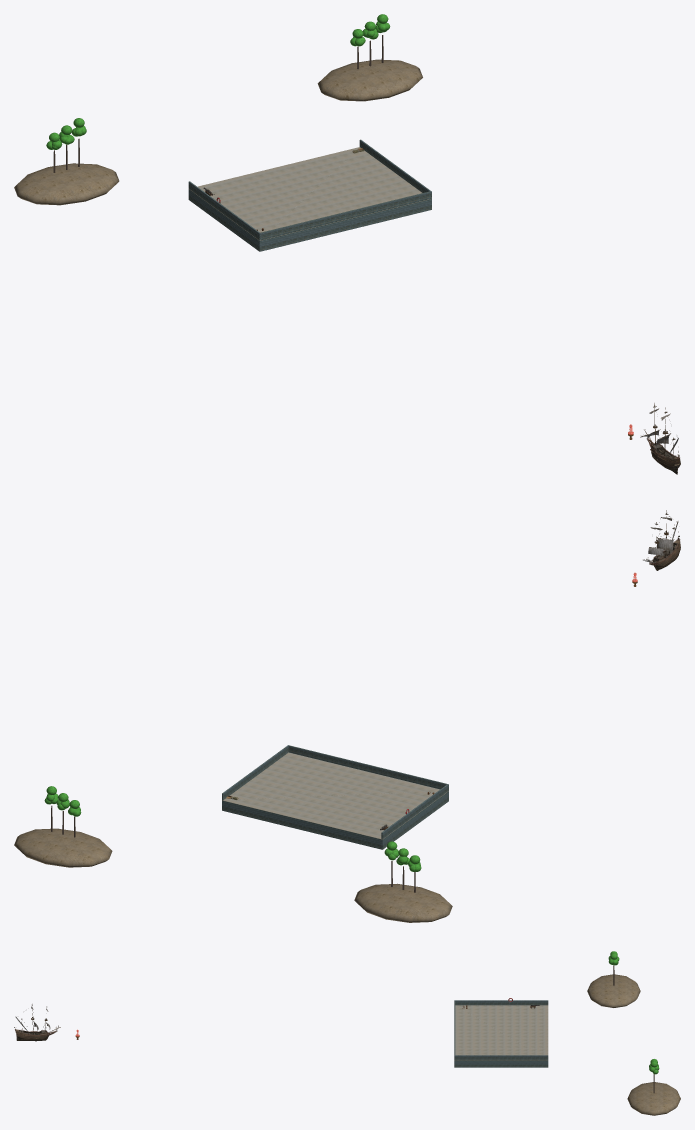
Rendered from kapal-luar.glb.
The picture shows the model from 3 angles, top to bottom: view 1: azimuth 30°, elevation 25°; view 2: azimuth 150°, elevation 25°; view 3: azimuth 270°, elevation 25°; orthographic projection. The views are drawn at different scales.
Parts seen in each view (by area): view 1: statis, lewat_kapal; view 2: statis, lewat_kapal; view 3: statis, lewat_kapal.
Boxes of the visible parts, x1,y1,x2,y2 form: statis: (14, 14, 431, 251); lewat_kapal: (640, 403, 680, 474); statis: (14, 745, 452, 922); lewat_kapal: (643, 510, 680, 570); statis: (454, 951, 680, 1115); lewat_kapal: (14, 1004, 60, 1041).
Bounding box in the file's own units: 49.2 × 8.33 × 99.5.
15 materials, 15 textured.
